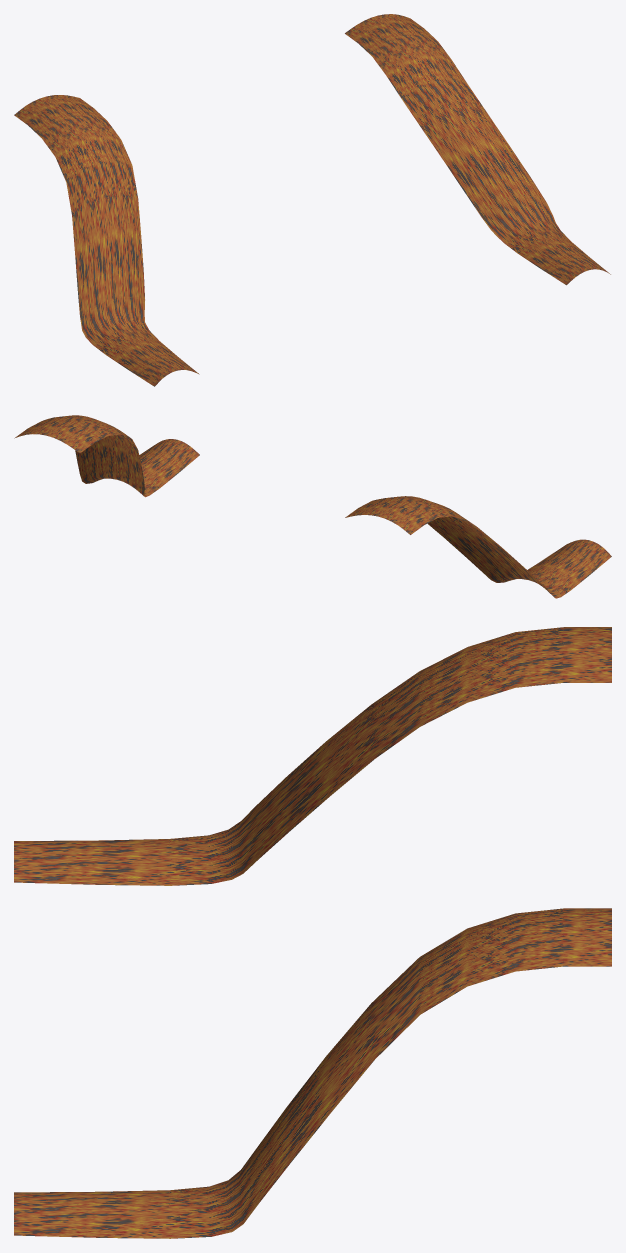
The model's file is WaterfallsSide1.fbx.
3 views of the same model, one above another, from view 1: azimuth 30°, elevation 25°; view 2: azimuth 150°, elevation 25°; view 3: azimuth 270°, elevation 25° (orthographic). The views are drawn at different scales.
Parts seen in each view (by area): view 1: WaterfallSide1, WaterfallSide2; view 2: WaterfallSide1, WaterfallSide2; view 3: WaterfallSide2, WaterfallSide1.
Part boxes in pixels (x1=…): WaterfallSide1: x1=14, y1=95, x2=199, y2=386; WaterfallSide2: x1=345, y1=14, x2=610, y2=285; WaterfallSide1: x1=345, y1=496, x2=611, y2=598; WaterfallSide2: x1=14, y1=415, x2=199, y2=497; WaterfallSide2: x1=14, y1=908, x2=611, y2=1238; WaterfallSide1: x1=14, y1=627, x2=611, y2=885.
Size of the model in its own units: 28.98 by 8.83 by 18.23.
